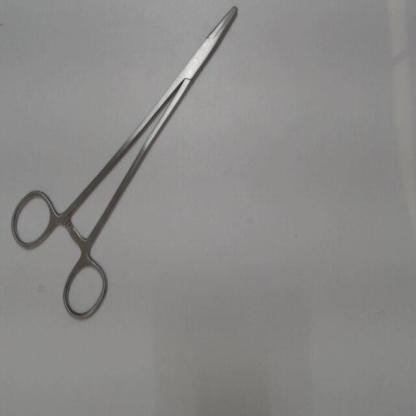8 Mayo Needle Holder: (3, 1, 249, 327)
